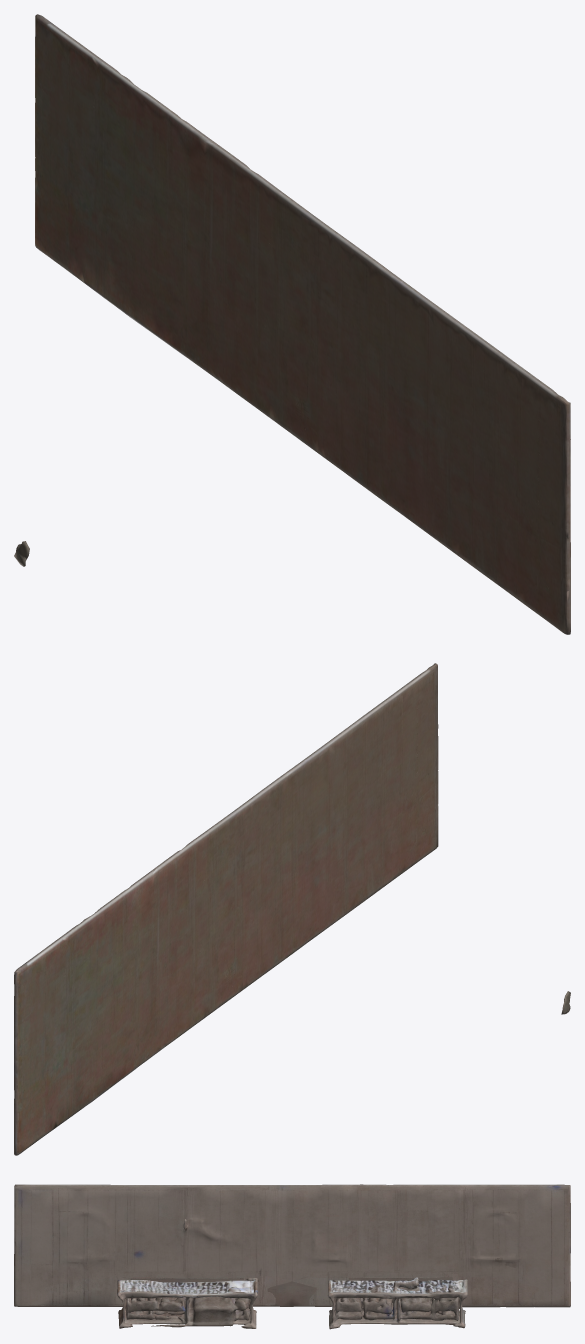
3 renders of one model, top to bottom at view 1: azimuth 30°, elevation 25°; view 2: azimuth 150°, elevation 25°; view 3: azimuth 270°, elevation 25°, orthographic. The views are drawn at different scales.
Visible parts, largest first — view 1: file1; view 2: file1; view 3: file1.
Boxes of the visible parts, left/top/right/bottom form: file1: left=14, top=14, right=570, bottom=634; file1: left=14, top=663, right=570, bottom=1155; file1: left=14, top=1184, right=570, bottom=1329.
Size of the model in its own units: 0.9809 by 0.485 by 2.
1 material, 1 textured.
